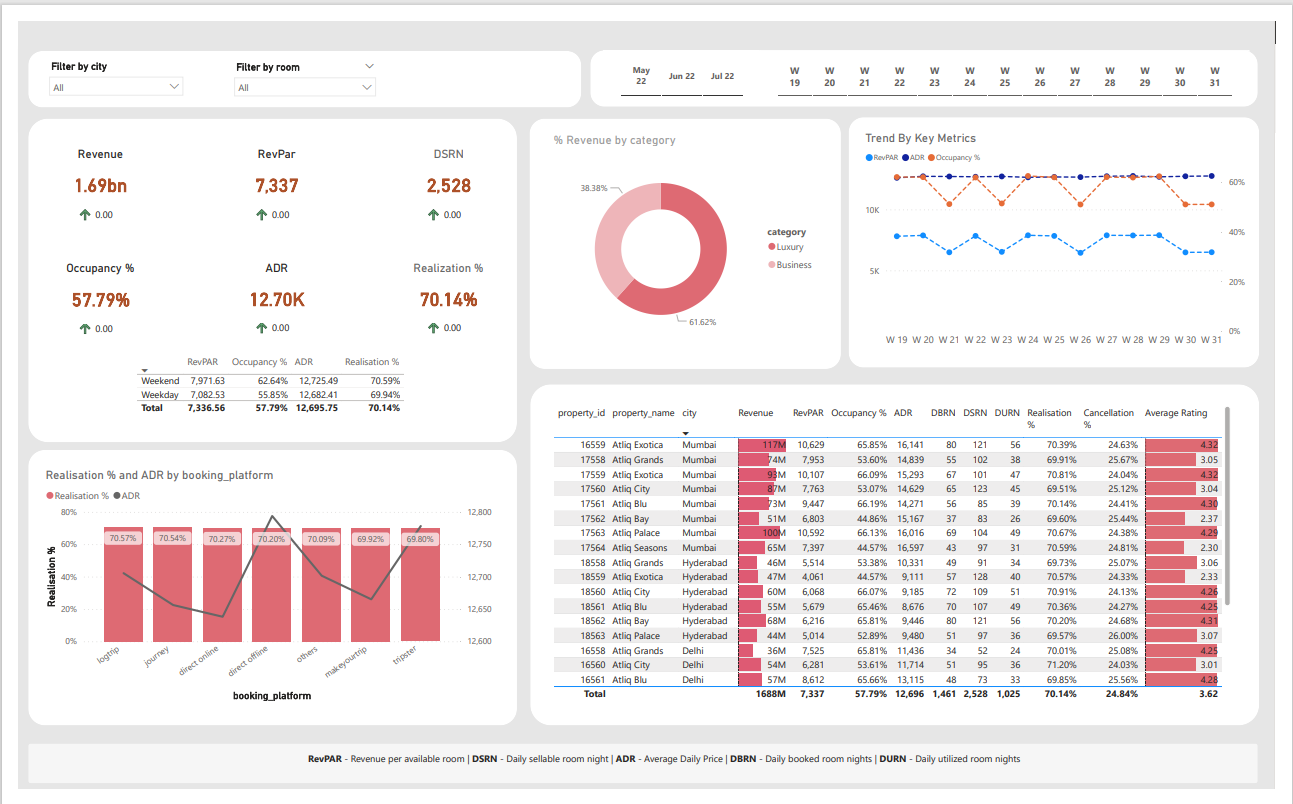

This screenshot's page, from the dashboard's own definition file:
{"tool":"powerbi","page":{"name":"Page 1","canvas":[1800,1100],"ordinal":0},"visuals":[{"type":"shape","box":[733.7,521.4,1044.7,488.3],"z":0},{"type":"shape","box":[14.7,615.4,700.2,394.3],"z":1000},{"type":"shape","box":[1190.3,138.2,587.8,359.3],"z":2000},{"type":"shape","box":[733.3,140,445.9,359.3],"z":3000},{"type":"shape","box":[14.7,140,700.2,464.3],"z":4000},{"type":"shape","box":[819.9,42.4,956.3,81.1],"z":5000},{"type":"shape","box":[14.7,42.7,792.3,81.1],"z":6000},{"type":"tableEx","fields":{"Values":["dim_hotels.property_id","dim_hotels.property_name","dim_hotels.city","Key_measures.Revenue","Key_measures.RevPAR","Key_measures.Occupancy %","Key_measures.ADR","Key_measures.DBRN","Key_measures.DSRN","Key_measures.DURN","Key_measures.Realisation %","Key_measures.Cancellation %"]},"box":[763.2,547.2,978.4,433],"z":7000},{"type":"slicer","title":"By city","fields":{"Values":["dim_hotels.city"]},"box":[35,51.9,211.9,62.6],"z":8000},{"type":"slicer","title":"By room type","fields":{"Values":["dim_rooms.room_class"]},"box":[300.3,52.8,222.9,60.8],"z":9000},{"type":"slicer","fields":{"Values":["dim_date.mmm yy"]},"box":[838.7,42.1,222.9,71.9],"z":10000},{"type":"slicer","fields":{"Values":["dim_date.week no"]},"box":[1061.7,42.1,702,71.9],"z":11000},{"type":"tableEx","fields":{"Values":["Key_measures.Revenue WoW change %"]},"box":[77.4,234.3,81.9,78.2],"z":12000},{"type":"card","title":"Revenue","fields":{"Values":["Key_measures.Revenue"]},"box":[45.6,181.1,145.6,88.4],"z":13000},{"type":"donutChart","title":"% Revenue by category","fields":{"Y":["Key_measures.Revenue"],"Category":["dim_hotels.category"]},"box":[762.8,160.3,390.6,315.1],"z":14000},{"type":"lineChart","title":"Trend By Key Metrics","fields":{"Category":["dim_date.mmm yy.Variation.Date Hierarchy.Month","dim_date.week no"],"Y":["Key_measures.RevPAR","Key_measures.ADR"],"Y2":["Key_measures.Occupancy %"]},"box":[1208.7,158.5,554.6,318.8],"z":15000},{"type":"lineStackedColumnComboChart","fields":{"Category":["fact_bookings.booking_platform"],"Y":["Key_measures.Realisation %"],"Y2":["Key_measures.ADR"]},"box":[35,641.2,648.6,339],"z":16000},{"type":"tableEx","fields":{"Values":["dim_date.day_type","Key_measures.RevPAR","Key_measures.Occupancy %","Key_measures.ADR","Key_measures.Realisation %"]},"box":[165.8,475.4,407.2,103.2],"z":17000},{"type":"tableEx","fields":{"Values":["Key_measures.Revenue WoW change %"]},"box":[329.9,233.7,82.2,78.4],"z":18000},{"type":"tableEx","fields":{"Values":["Key_measures.Revenue WoW change %"]},"box":[576.1,233.7,82.2,78.4],"z":19000},{"type":"card","title":"RevPar","fields":{"Values":["Key_measures.RevPAR"]},"box":[297.6,180.5,146.7,89.2],"z":20000},{"type":"card","title":"DSRN","fields":{"Values":["Key_measures.DSRN"]},"box":[543.8,180.5,146.7,89.2],"z":21000},{"type":"tableEx","fields":{"Values":["Key_measures.Revenue WoW change %"]},"box":[77.3,396.6,82.2,78.4],"z":22000},{"type":"tableEx","fields":{"Values":["Key_measures.Revenue WoW change %"]},"box":[329.9,396.1,82.2,78.4],"z":23000},{"type":"tableEx","fields":{"Values":["Key_measures.Revenue WoW change %"]},"box":[576.1,396.1,82.2,78.4],"z":24000},{"type":"card","title":"Occupancy %","fields":{"Values":["Key_measures.Occupancy %"]},"box":[44.6,344.3,147.5,89.6],"z":25000},{"type":"card","title":"Realization %","fields":{"Values":["Key_measures.Realisation %"]},"box":[559.3,343.9,115.8,89.6],"z":26000},{"type":"card","title":"ADR","fields":{"Values":["Key_measures.ADR"]},"box":[298.1,343.9,145.7,89.6],"z":27000},{"type":"shape","box":[14.7,1035.5,1761.5,57.1],"z":28000},{"type":"textbox","box":[410.9,1042.9,1162.6,42.4],"z":29000}]}

Visuals, with their boxes in screenshot pixels (x1, y1, x2, y2), scaled from the page's 1800x1100 canvas onto the 1293x804 screenshot:
shape: (527,381,1277,738)
shape: (11,450,514,738)
shape: (855,101,1277,364)
shape: (527,102,847,365)
shape: (11,102,514,442)
shape: (589,31,1276,90)
shape: (11,31,580,90)
tableEx - dim_hotels.property_id x dim_hotels.property_name: (548,400,1251,716)
"By city" slicer: (25,38,177,84)
"By room type" slicer: (216,39,376,83)
slicer - dim_date.mmm yy: (602,31,763,83)
slicer - dim_date.week no: (763,31,1267,83)
tableEx - Key_measures.Revenue WoW change %: (56,171,114,228)
"Revenue" card: (33,132,137,197)
"% Revenue by category" donutChart: (548,117,829,347)
"Trend By Key Metrics" lineChart: (868,116,1267,349)
lineStackedColumnComboChart - fact_bookings.booking_platform x Key_measures.Realisation %: (25,469,491,716)
tableEx - dim_date.day_type x Key_measures.RevPAR: (119,347,412,423)
tableEx - Key_measures.Revenue WoW change %: (237,171,296,228)
tableEx - Key_measures.Revenue WoW change %: (414,171,473,228)
"RevPar" card: (214,132,319,197)
"DSRN" card: (391,132,496,197)
tableEx - Key_measures.Revenue WoW change %: (56,290,115,347)
tableEx - Key_measures.Revenue WoW change %: (237,290,296,347)
tableEx - Key_measures.Revenue WoW change %: (414,290,473,347)
"Occupancy %" card: (32,252,138,317)
"Realization %" card: (402,251,485,317)
"ADR" card: (214,251,319,317)
shape: (11,757,1276,799)
textbox: (295,762,1130,793)
